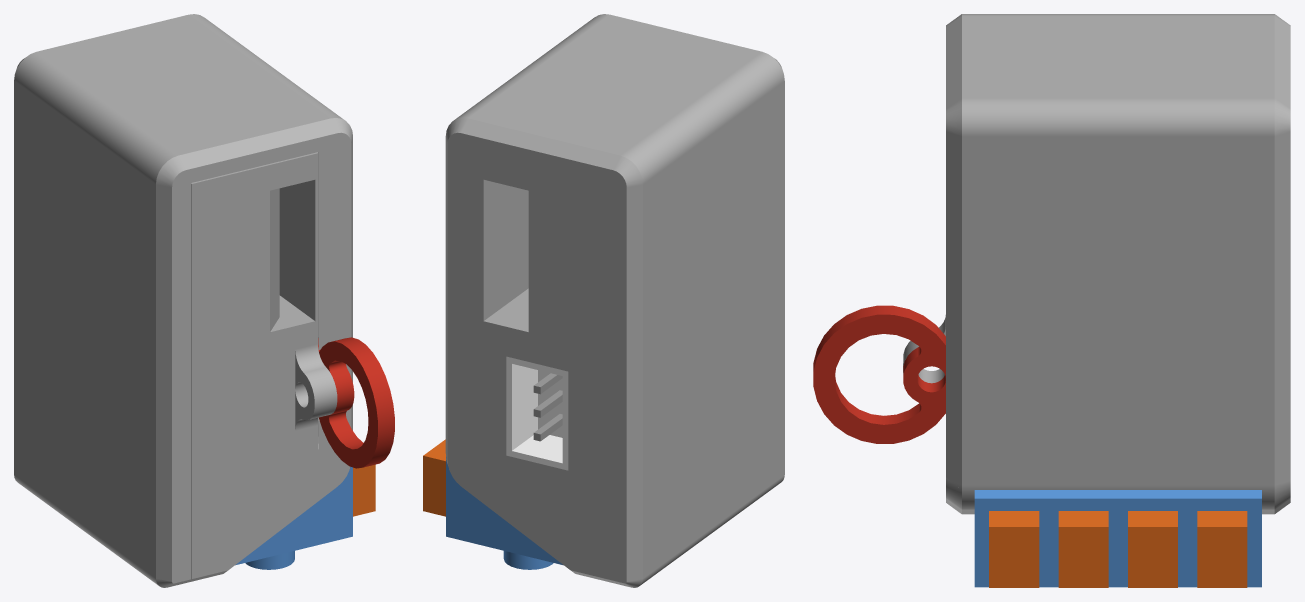
3 views of the same model, side by side, from view 1: azimuth 30°, elevation 25°; view 2: azimuth 150°, elevation 25°; view 3: azimuth 270°, elevation 25° (orthographic). The views are drawn at different scales.
Parts seen in each view (by area): view 1: Asset3DLoader.sceneRoot; view 2: Asset3DLoader.sceneRoot; view 3: Asset3DLoader.sceneRoot.
Part boxes in pixels (bbox=[...]): Asset3DLoader.sceneRoot: bbox=[14, 14, 394, 587]; Asset3DLoader.sceneRoot: bbox=[423, 14, 784, 587]; Asset3DLoader.sceneRoot: bbox=[813, 14, 1290, 587].
Size of the model in its own units: 2.06 by 3.79 by 3.32.
